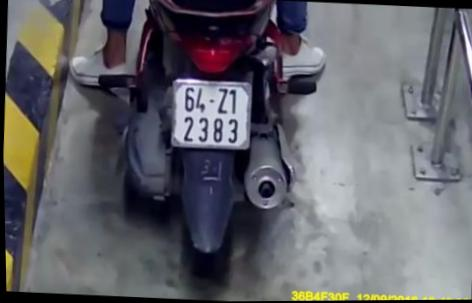LP: (163, 74, 255, 153)
